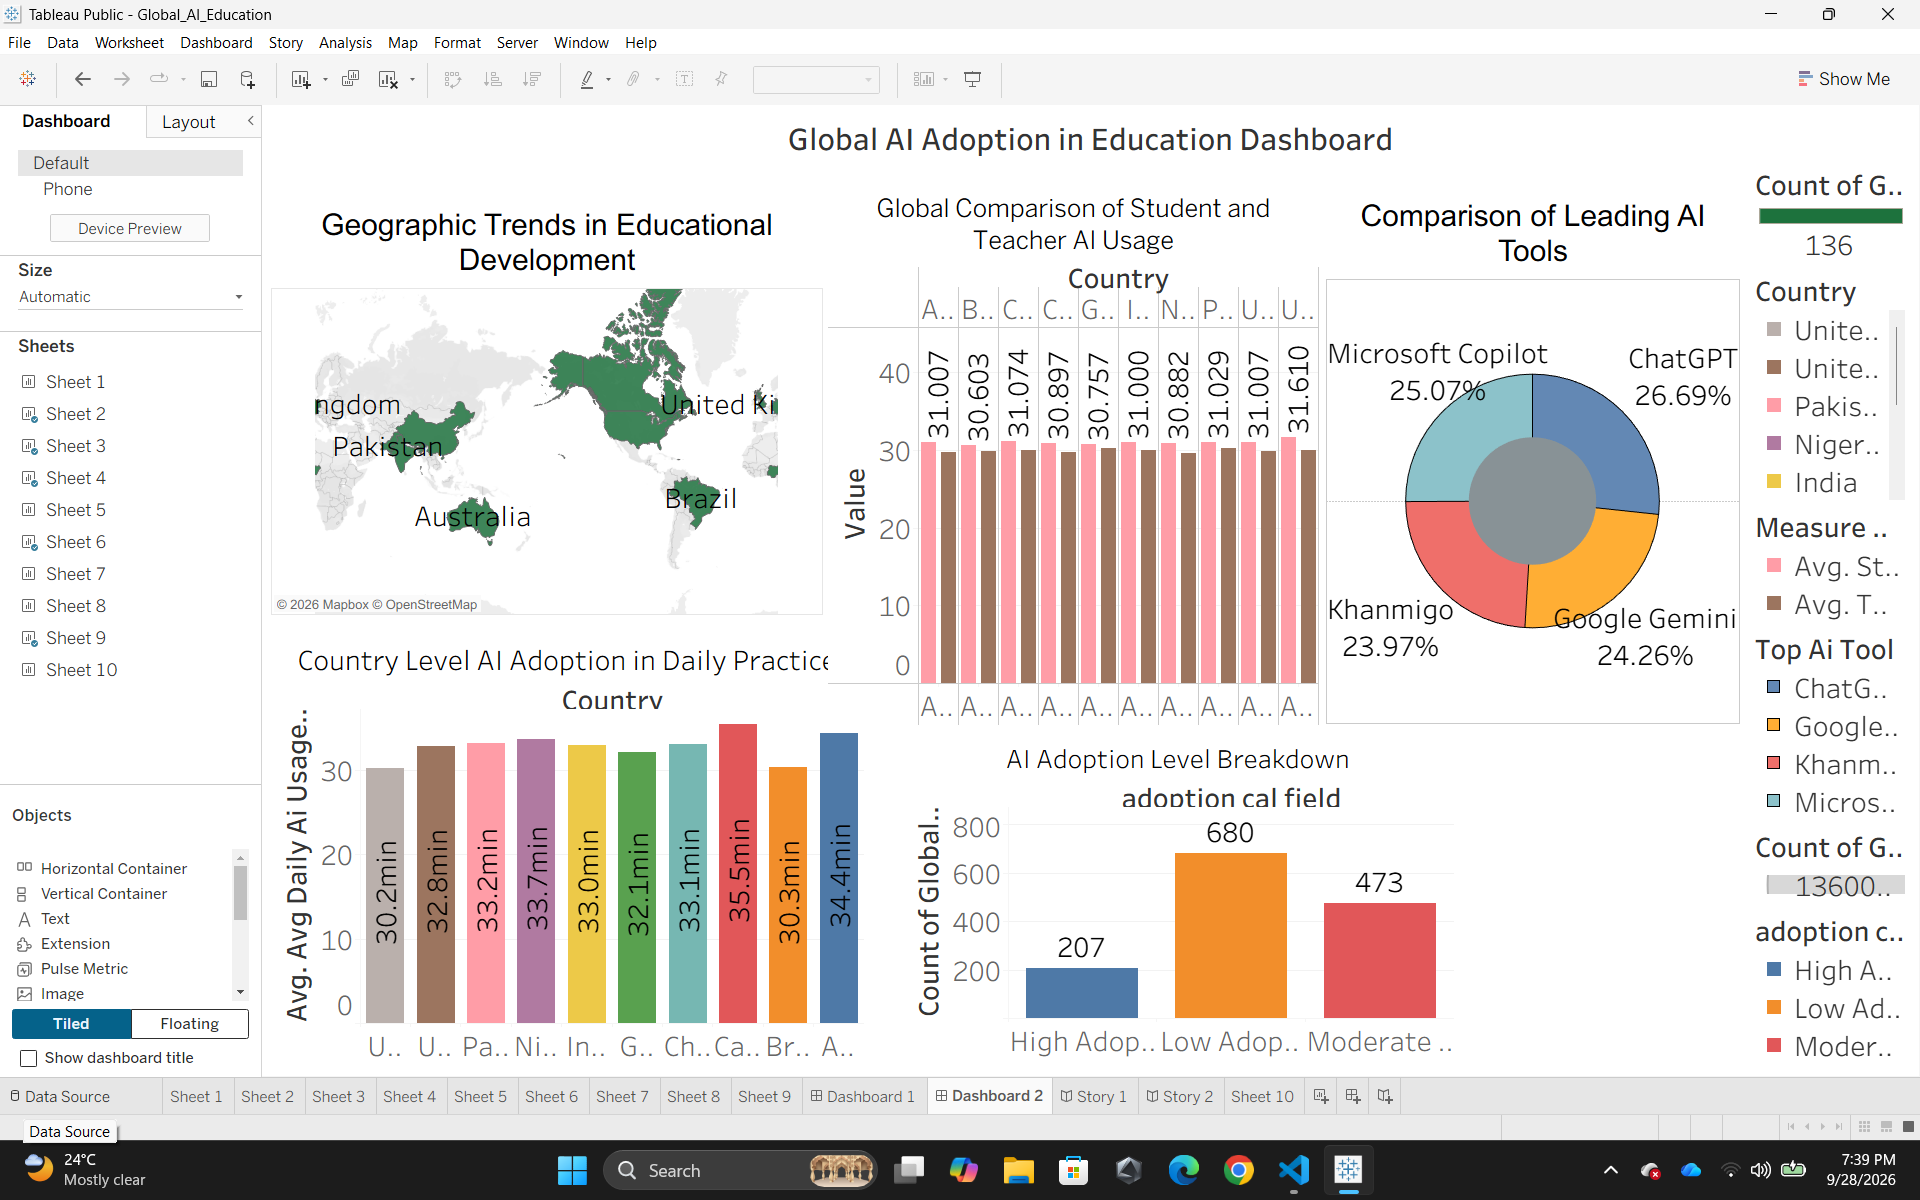

Layout of this report page (visuals, bound fields, positions):
{"tool":"tableau","page":{"name":"Dashboard 2","canvas":[1000,1000],"units":"permille","ordinal":1},"visuals":[{"type":"title","box":[4.8,8.2,990.3,50.5]},{"type":"legend","title":"Sheet 2","param":"[federated.0ysozuo0x9g3cq1eftqui0tz2jpg].[__tableau_internal_object_id__].[cnt:G","box":[898.6,58.7,96.6,109.2]},{"type":"worksheet","title":"Sheet 4","mark":"Automatic","cols":["country"],"box":[341.5,85.5,296.4,554.1]},{"type":"worksheet","title":"Sheet 6","mark":"Pie","rows":["Calculation_1226280216522756","Calculation_1226280216350722"],"box":[642.1,92.7,250.2,544.8]},{"type":"worksheet","title":"Sheet 2","mark":"Automatic","box":[5.3,102,333.3,423.3]},{"type":"legend","title":"Sheet 3","param":"[federated.0ysozuo0x9g3cq1eftqui0tz2jpg].[none:country:nk]","box":[898.6,167.9,96.6,243.1]},{"type":"legend","title":"Sheet 4","param":"[federated.0ysozuo0x9g3cq1eftqui0tz2jpg].[:Measure Names]","box":[898.6,410.9,96.6,125.6]},{"type":"legend","title":"Sheet 6","param":"[federated.0ysozuo0x9g3cq1eftqui0tz2jpg].[none:top_ai_tool:nk]","box":[898.6,536.6,96.6,203.9]},{"type":"worksheet","title":"Sheet 3","mark":"Automatic","rows":["avg_daily_ai_usage_min"],"cols":["country"],"box":[4.7,546.9,358.5,441.8]},{"type":"worksheet","title":"Sheet 9","mark":"Automatic","rows":["Global AI in Education.csv_1941E565DB1B4BA6950A1C7854571AE4"],"cols":["Calculation_1226280226668557"],"box":[386.1,650.9,333.3,332.7]},{"type":"legend","title":"Sheet 6","param":"[federated.0ysozuo0x9g3cq1eftqui0tz2jpg].[__tableau_internal_object_id__].[cnt:G","box":[898.6,740.5,96.6,86.5]},{"type":"legend","title":"Sheet 9","param":"[federated.0ysozuo0x9g3cq1eftqui0tz2jpg].[none:Calculation_1226280226668557:nk]","box":[898.6,827,96.6,164.8]}]}

Visuals, with their boxes on the dashboard's canvas, which has no fixed pixel size, in thousandths of its width and height (x1, y1, x2, y2). These are canvas units, not pixel positions in the 1920x1200 screenshot, which may show the page scaled, cropped or inside an application window:
title: [5,8,995,59]
"Sheet 2" legend: [899,59,995,168]
"Sheet 4" worksheet: [342,86,638,640]
"Sheet 6" worksheet (Pie marks): [642,93,892,638]
"Sheet 2" worksheet: [5,102,339,525]
"Sheet 3" legend: [899,168,995,411]
"Sheet 4" legend: [899,411,995,536]
"Sheet 6" legend: [899,537,995,740]
"Sheet 3" worksheet: [5,547,363,989]
"Sheet 9" worksheet: [386,651,719,984]
"Sheet 6" legend: [899,740,995,827]
"Sheet 9" legend: [899,827,995,992]
